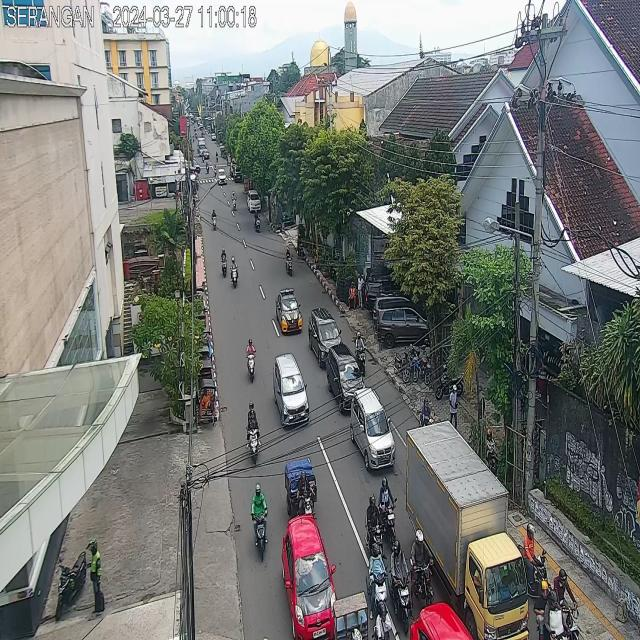car: (283, 517, 341, 640), (350, 388, 396, 471), (271, 354, 310, 431), (328, 343, 368, 415), (308, 305, 342, 369), (276, 286, 303, 336), (247, 190, 261, 212)
motorcycle: (516, 521, 549, 598), (409, 526, 437, 612), (388, 539, 412, 635), (550, 566, 581, 640), (365, 544, 390, 617), (285, 461, 318, 516), (363, 493, 386, 564), (250, 482, 270, 563), (378, 474, 399, 548), (536, 587, 562, 640), (369, 598, 400, 640), (246, 398, 263, 469), (245, 336, 257, 384), (418, 397, 435, 427), (230, 253, 238, 290), (285, 246, 293, 277), (221, 246, 228, 279), (254, 210, 261, 233), (211, 208, 217, 232), (231, 190, 237, 211)
truck: (406, 421, 531, 640)
